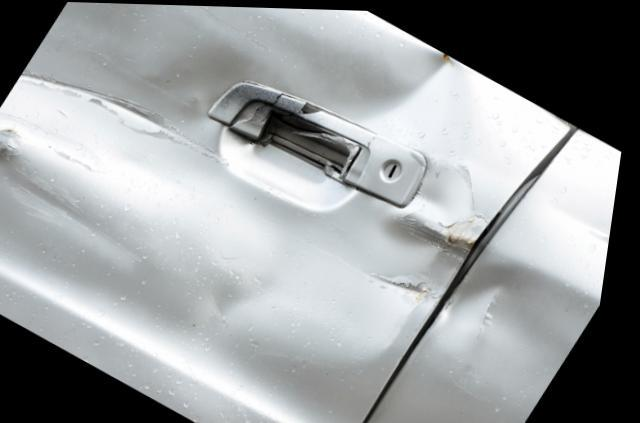dent: (0, 2, 480, 355), (446, 254, 598, 386), (339, 50, 469, 147)
